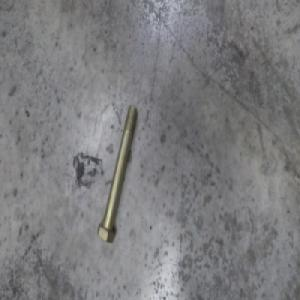Bolt: (96, 107, 138, 245)
